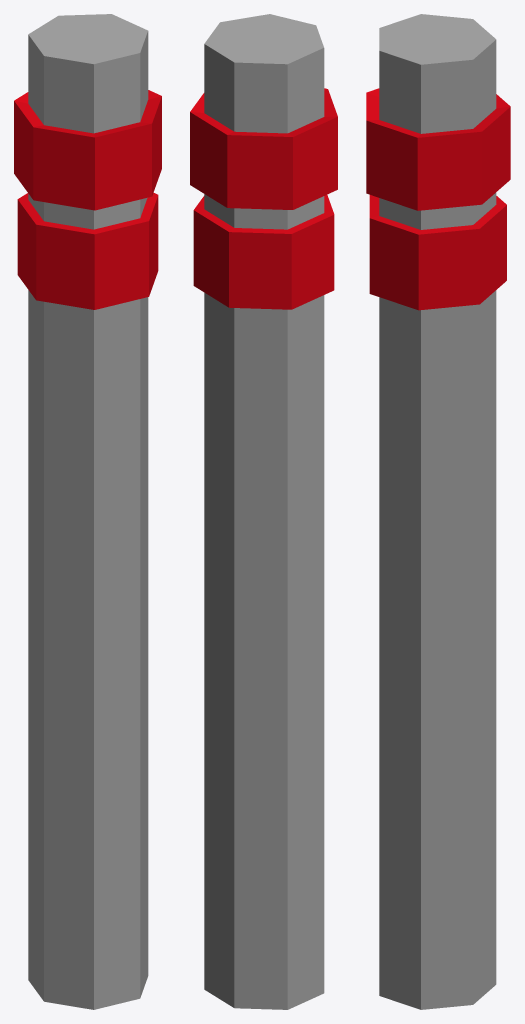
The model's file is TuvoScape.fbx.
3 views of the same model, side by side, from view 1: azimuth 30°, elevation 25°; view 2: azimuth 150°, elevation 25°; view 3: azimuth 270°, elevation 25° (orthographic).
Visible parts, largest first — view 1: tuvo; view 2: tuvo; view 3: tuvo.
Boxes of the visible parts, x1,y1,x2,y2 form: tuvo: (14, 14, 161, 1009); tuvo: (190, 14, 337, 1009); tuvo: (366, 14, 510, 1009).
Size of the model in its own units: 463 by 3258 by 452.
